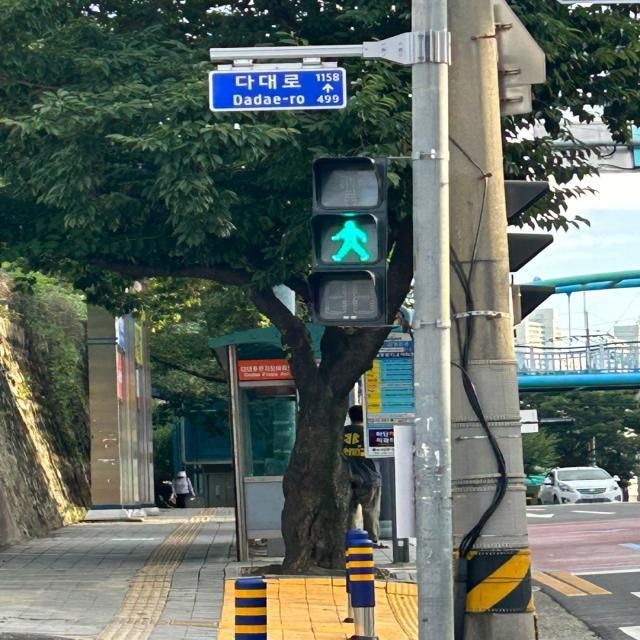green_light: (321, 218, 376, 264)
